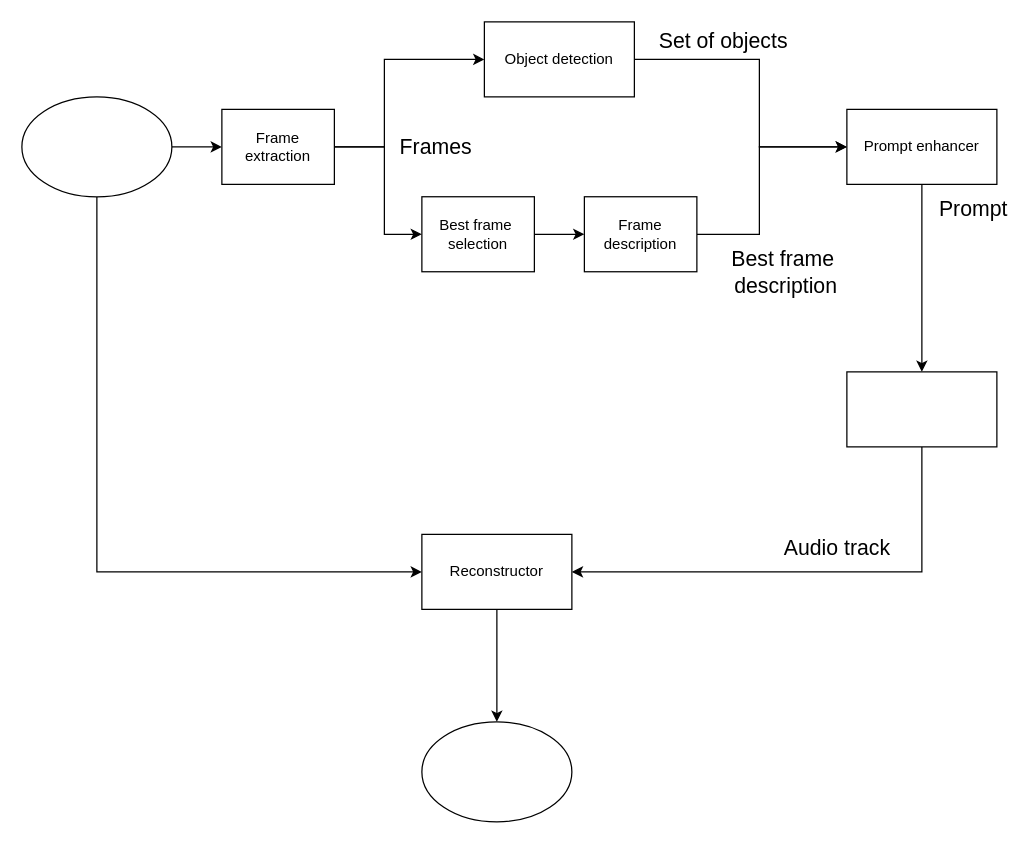
Some shapes in this 1029 by 844 pixel diagram are drawn without their labels. The shapes that lost their labels are listed below. From the top down, each one's centre as x and y in pixels, then its label:
At [96,146]: "Video".
At [921,409]: "Audio generator".
At [496,771]: "Enhanced video".
